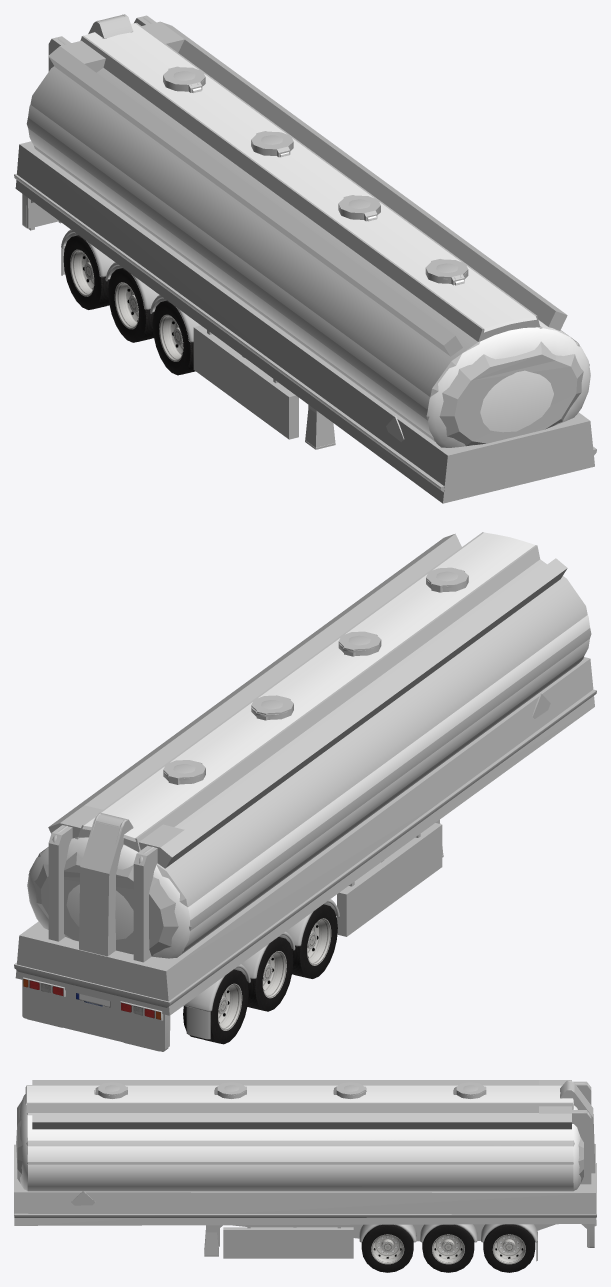
The model's file is Trailer03.FBX.
3 renders of one model, top to bottom at view 1: azimuth 30°, elevation 25°; view 2: azimuth 150°, elevation 25°; view 3: azimuth 270°, elevation 25°, orthographic. The views are drawn at different scales.
Parts seen in each view (by area): view 1: Trailer3_Col, TankerPaint_LOD0, BodyTrailer_LOD0, WheelRearRight3_LOD0, WheelRearRight2_LOD0, WheelRearRight1_LOD0; view 2: Trailer3_Col, TankerPaint_LOD0, BodyTrailer_LOD0, WheelRearRight2_LOD0, WheelRearRight1_LOD0, WheelRearRight3_LOD0; view 3: Trailer3_Col, TankerPaint_LOD0, BodyTrailer_LOD0, WheelRearLeft3_LOD0, WheelRearLeft2_LOD0, WheelRearLeft1_LOD0.
Boxes of the visible parts, bbox=[...] form: Trailer3_Col: bbox=[15, 14, 594, 503]; TankerPaint_LOD0: bbox=[28, 23, 590, 447]; BodyTrailer_LOD0: bbox=[14, 14, 596, 492]; WheelRearRight3_LOD0: bbox=[63, 235, 109, 309]; WheelRearRight2_LOD0: bbox=[108, 268, 154, 342]; WheelRearRight1_LOD0: bbox=[152, 300, 195, 375]; Trailer3_Col: bbox=[15, 532, 594, 1049]; TankerPaint_LOD0: bbox=[27, 532, 589, 958]; BodyTrailer_LOD0: bbox=[14, 571, 596, 1051]; WheelRearRight2_LOD0: bbox=[247, 937, 293, 1011]; WheelRearRight1_LOD0: bbox=[292, 904, 337, 978]; WheelRearRight3_LOD0: bbox=[183, 969, 248, 1044]; Trailer3_Col: bbox=[14, 1080, 595, 1258]; TankerPaint_LOD0: bbox=[16, 1085, 581, 1191]; BodyTrailer_LOD0: bbox=[14, 1081, 596, 1261]; WheelRearLeft3_LOD0: bbox=[483, 1224, 535, 1272]; WheelRearLeft2_LOD0: bbox=[422, 1224, 474, 1272]; WheelRearLeft1_LOD0: bbox=[361, 1224, 413, 1272].
Size of what is drawn, in the model's own units: 2338 by 3254 by 10528.
